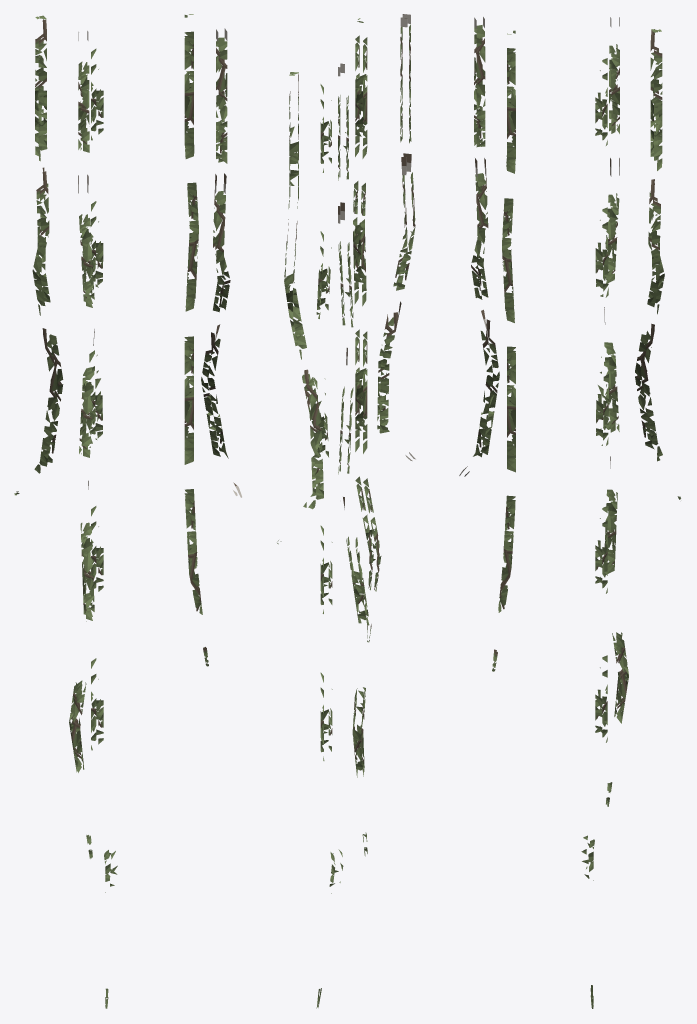
File: synty-tree-vines-04.gltf
The picture shows the model from 3 angles, left to right: view 1: azimuth 90°, elevation 25°; view 2: azimuth 150°, elevation 25°; view 3: azimuth 270°, elevation 25°; orthographic projection. The views are drawn at different scales.
Parts seen in each view (by area): view 1: SM_Tree_Vines_04; view 2: SM_Tree_Vines_04; view 3: SM_Tree_Vines_04.
Boxes of the visible parts, bbox=[...] form: SM_Tree_Vines_04: bbox=[14, 14, 241, 1008]; SM_Tree_Vines_04: bbox=[277, 14, 415, 1008]; SM_Tree_Vines_04: bbox=[459, 17, 680, 1008].
Size of the model in its own units: 0.3319 by 4.67 by 0.99.
Materials: 1 (1 with a texture image).
